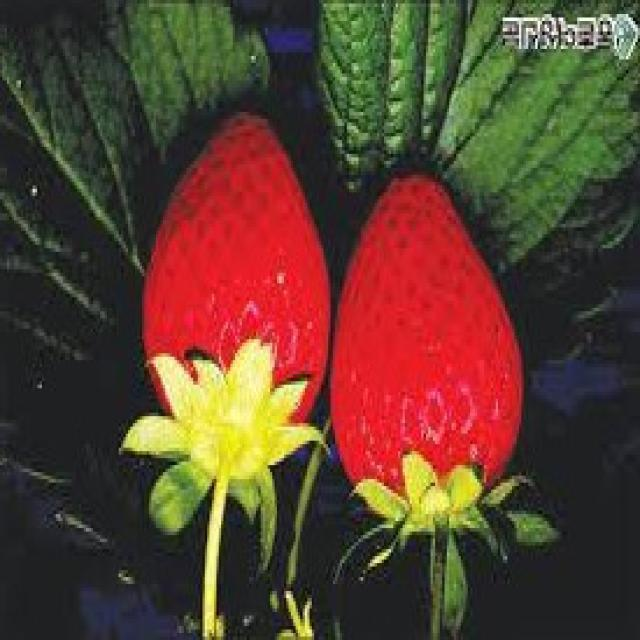ripe: (328, 172, 524, 502), (144, 111, 332, 426)
